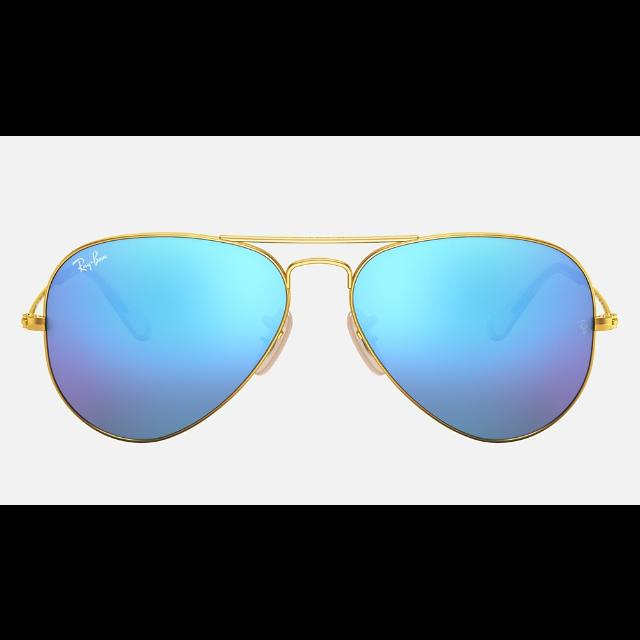Sunglasses: (27, 228, 619, 442)
